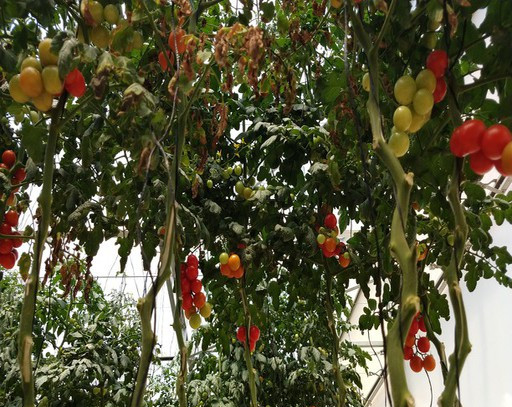green tomato bunch: (83, 1, 145, 54), (234, 174, 268, 203)
mixed tomato bunch: (388, 46, 454, 157), (10, 37, 89, 112)
red tomato bunch: (450, 117, 512, 176), (1, 148, 27, 271), (397, 310, 436, 371), (174, 254, 207, 314), (315, 214, 350, 266), (218, 239, 255, 279), (236, 324, 260, 352)
